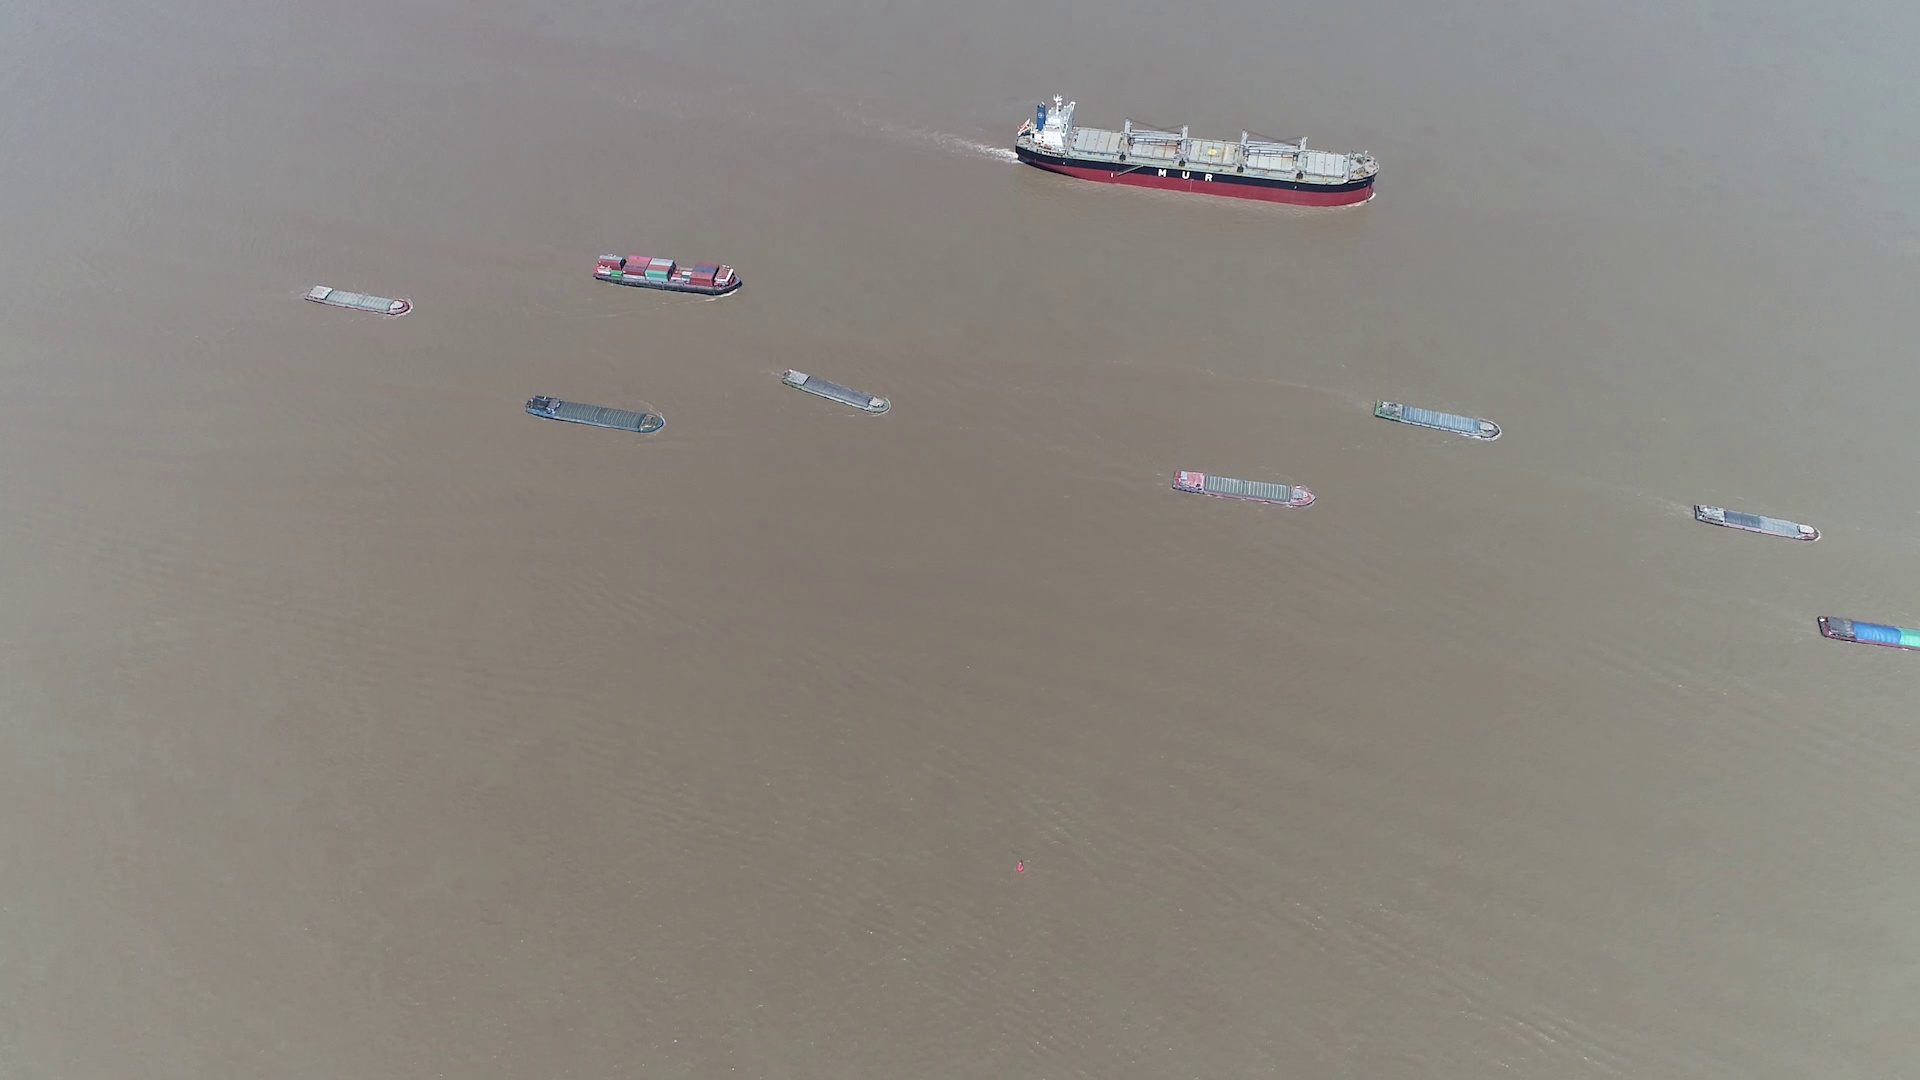ship: (1011, 98, 1375, 204), (592, 255, 741, 295), (524, 396, 665, 435), (1373, 400, 1503, 442), (1172, 469, 1316, 508), (781, 371, 894, 417), (1693, 502, 1818, 541), (1817, 613, 1919, 651), (303, 284, 411, 316)
